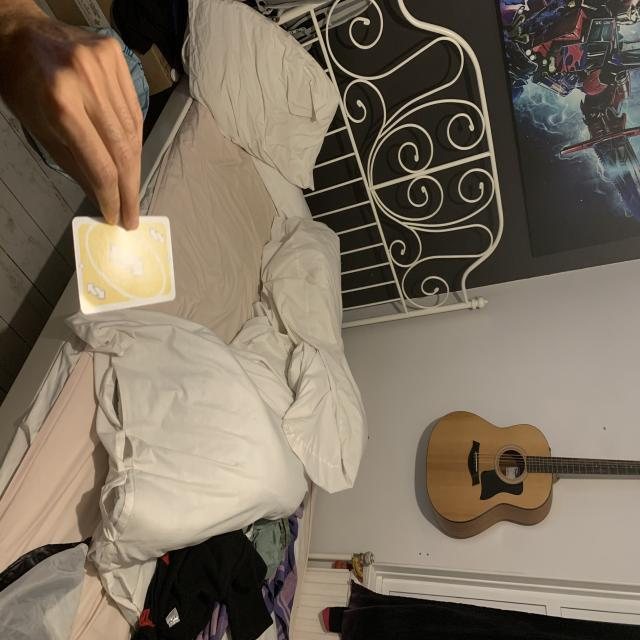lyellowrevers-20: (83, 278, 108, 304)
